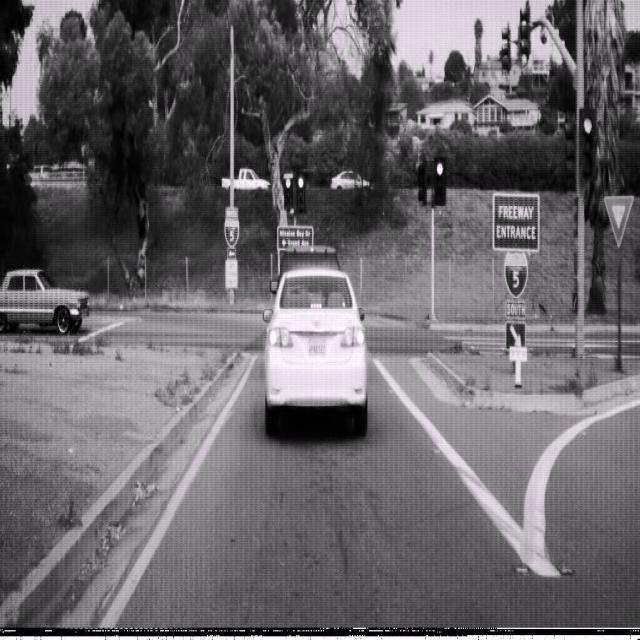yield: (603, 194, 634, 246)
